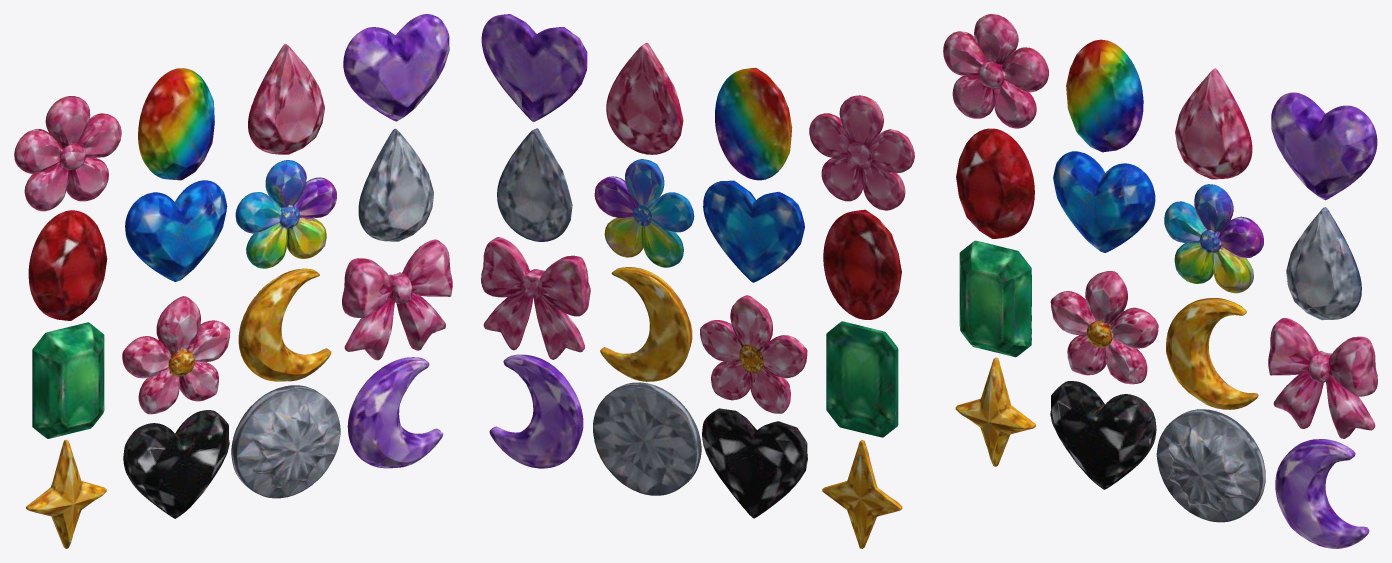
3 renders of one model, left to right at view 1: azimuth 30°, elevation 25°; view 2: azimuth 150°, elevation 25°; view 3: azimuth 330°, elevation 25°, orthographic.
Visible parts, largest first — view 1: Mesh 9, Mesh 13, Mesh 1, Mesh 5, Mesh 14, Mesh 6, Mesh 4, Mesh 10, Mesh 7, Mesh 8, Mesh 3, Mesh 15 (+4 smaller); view 2: Mesh 9, Mesh 13, Mesh 1, Mesh 5, Mesh 14, Mesh 6, Mesh 4, Mesh 10, Mesh 7, Mesh 8, Mesh 3, Mesh 15 (+4 smaller); view 3: Mesh 9, Mesh 13, Mesh 1, Mesh 14, Mesh 5, Mesh 6, Mesh 4, Mesh 10, Mesh 7, Mesh 8, Mesh 3, Mesh 15 (+4 smaller).
Part boxes in pixels (x1,y1,x2,y2): Mesh 9: (231,385,340,498); Mesh 13: (342,239,452,360); Mesh 1: (14,96,121,211); Mesh 5: (122,296,230,414); Mesh 14: (343,14,449,121); Mesh 6: (123,410,229,518); Mesh 4: (32,322,104,438); Mesh 10: (235,160,336,268); Mesh 7: (125,180,227,281); Mesh 8: (138,68,214,180); Mesh 3: (28,210,107,320); Mesh 15: (347,357,443,468); Mesh 9: (593,382,701,495); Mesh 13: (481,237,590,359); Mesh 1: (809,95,914,210); Mesh 5: (700,295,807,413); Mesh 14: (481,14,587,121); Mesh 6: (702,408,807,518); Mesh 4: (826,321,898,437); Mesh 10: (594,159,694,267); Mesh 7: (703,180,804,282); Mesh 8: (715,67,792,180); Mesh 3: (823,209,901,319); Mesh 15: (489,354,583,468); Mesh 9: (1156,409,1265,522); Mesh 13: (1268,318,1377,438); Mesh 1: (943,14,1048,128); Mesh 14: (1271,92,1377,200); Mesh 5: (1050,271,1158,384); Mesh 6: (1050,381,1156,489); Mesh 4: (959,240,1031,357); Mesh 10: (1164,184,1263,293); Mesh 7: (1053,151,1155,252); Mesh 8: (1066,39,1143,152); Mesh 3: (956,128,1034,238); Mesh 15: (1275,439,1369,548).
Size of the model in its own units: 1.9 by 1.9 by 0.1165.
Materials: 16 (16 with a texture image).
